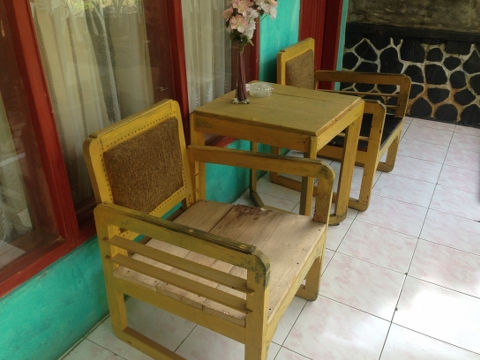kursi: (83, 98, 334, 360), (270, 37, 412, 209)
meja: (190, 79, 365, 228)
